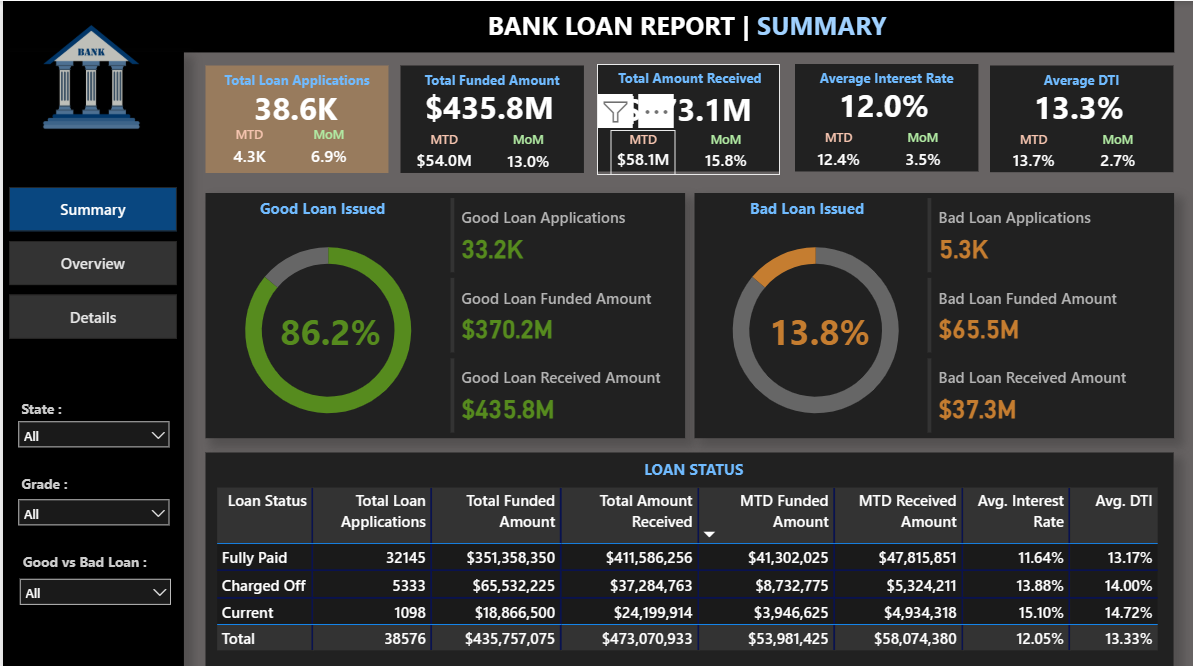

The page's visual inventory and layout, read from the dashboard file:
{"tool":"powerbi","page":{"name":"Summary","canvas":[1280,720],"ordinal":0},"visuals":[{"type":"shape","box":[629.2,66.4,193.8,114.2],"z":0,"group":"g3"},{"type":"shape","box":[839.7,67.5,194.5,114],"z":0,"group":"g4"},{"type":"shape","box":[214.3,68.6,194.3,114.3],"z":0,"group":"g1"},{"type":"shape","box":[421.4,68.6,194.5,114],"z":0,"group":"g2"},{"type":"shape","box":[1047.1,68.6,194.5,113.1],"z":0,"group":"g5"},{"type":"shape","box":[214.3,204.3,508.6,260],"z":0},{"type":"card","fields":{"Values":["table_measures.avg_interest_rate"]},"box":[851.5,82.1,165.9,58.4],"z":1000,"group":"g4"},{"type":"card","fields":{"Values":["table_measures.avg_DTI"]},"box":[1058.9,83.1,165.9,57.9],"z":1000,"group":"g5"},{"type":"card","fields":{"Values":["table_measures.total_loan_appl"]},"box":[247.2,83.2,124.3,61.3],"z":1000,"group":"g1"},{"type":"card","fields":{"Values":["table_measures.total_funded_amt"]},"box":[433.2,83.2,165.9,58.4],"z":1000,"group":"g2"},{"type":"card","fields":{"Values":["table_measures.total_received_amt"]},"box":[643.2,85.3,163.1,55.8],"z":1000,"group":"g3"},{"type":"donutChart","fields":{"Category":["financial_loan.Good vs Band Loan"],"Y":["table_measures.total_loan_appl"]},"box":[220,234.3,250,230],"z":1000},{"type":"shape","box":[0,0,1242.3,54.5],"z":2000},{"type":"textbox","box":[632.2,67,191,41.6],"z":2000,"group":"g3"},{"type":"textbox","box":[839.7,67.5,194.5,38.9],"z":2000,"group":"g4"},{"type":"textbox","box":[214.3,68.6,194.3,39],"z":2000,"group":"g1"},{"type":"textbox","box":[421.4,68.6,194.5,38.9],"z":2000,"group":"g2"},{"type":"textbox","box":[1047.1,68.6,194.5,38.6],"z":2000,"group":"g5"},{"type":"shape","box":[0,54.7,191.9,654.7],"z":3000},{"type":"card","title":"MTD","fields":{"Values":["table_measures.MTD_loan_appl"]},"box":[235.7,132.7,51.4,50.2],"z":3000,"group":"g1"},{"type":"card","title":"MTD","fields":{"Values":["table_measures.MTD_interest_rate"]},"box":[851.5,136.3,70.1,48.6],"z":3000,"group":"g4"},{"type":"card","title":"MTD","fields":{"Values":["table_measures.MTD_avg_DTI"]},"box":[1058.9,136.9,70.1,48.3],"z":3000,"group":"g5"},{"type":"card","title":"MTD","fields":{"Values":["table_measures.MTD_received_amt"]},"box":[643.2,137.1,68.9,46.5],"z":3000,"group":"g3"},{"type":"card","title":"MTD","fields":{"Values":["table_measures.MTD_funded_amt"]},"box":[433.2,137.4,70.1,48.6],"z":3000,"group":"g2"},{"type":"card","title":"MoM","fields":{"Values":["table_measures.MOM_loan_appl"]},"box":[320,132.7,51.4,50.2],"z":4000,"group":"g1"},{"type":"card","title":"MoM","fields":{"Values":["table_measures.MOM_interest_rate"]},"box":[946.6,136.1,57.8,49.7],"z":4000,"group":"g4"},{"type":"card","title":"MoM","fields":{"Values":["table_measures.MOM_avg_DTI"]},"box":[1154,136.7,57.8,49.3],"z":4000,"group":"g5"},{"type":"card","title":"MoM","fields":{"Values":["table_measures.MOM_received_amt"]},"box":[736.7,136.9,56.8,47.5],"z":4000,"group":"g3"},{"type":"card","title":"MoM","fields":{"Values":["table_measures.MOM_funded_amt"]},"box":[528.3,137.2,57.8,49.7],"z":4000,"group":"g2"},{"type":"textbox","box":[13.8,417,119.7,38.5],"z":4000},{"type":"textbox","box":[235.7,204.3,207.1,34.3],"z":5000},{"type":"card","fields":{"Values":["table_measures.good_loan_per"]},"box":[287.1,321.4,118.6,57.1],"z":6000},{"type":"textbox","box":[509.2,1.4,447.3,49.5],"z":7000},{"type":"group","id":"g1","title":"Group 1","box":[214.3,68.6,194.3,114.3],"z":8000},{"type":"group","id":"g2","title":"Group 1","box":[421.4,68.6,194.3,118],"z":9000},{"type":"group","id":"g3","title":"Group 1","box":[629.2,66.4,194,118],"z":10000},{"type":"group","id":"g4","title":"Group 1","box":[839.7,67.5,194.5,118.2],"z":11000},{"type":"group","id":"g5","title":"Group 1","box":[1047.1,68.6,194.3,117.1],"z":12000},{"type":"shape","box":[732.9,204.3,508.6,260],"z":13000},{"type":"cardVisual","fields":{"Data":["table_measures.good_loan_appl","table_measures.good_loan_funded_amt","table_measures.good_loan_received_amt"]},"box":[470,204.3,252.9,260],"z":14000},{"type":"donutChart","fields":{"Category":["financial_loan.Good vs Band Loan"],"Y":["table_measures.total_loan_appl"]},"box":[737.1,234.3,250,230],"z":15000},{"type":"card","fields":{"Values":["table_measures.bad_loan_per"]},"box":[805.7,321.4,118.6,57.1],"z":16000},{"type":"textbox","box":[748.6,204.3,207.1,34.3],"z":17000},{"type":"cardVisual","fields":{"Data":["table_measures.bad_loan_appl","table_measures.bad_loan_funded_amt","table_measures.bad_loan_received_amt"]},"box":[975.7,204.3,252.9,260],"z":18000},{"type":"shape","box":[214,479.1,1026.7,230.2],"z":19000},{"type":"tableEx","fields":{"Values":["financial_loan.loan_status","table_measures.total_loan_appl","table_measures.total_funded_amt","table_measures.total_received_amt","table_measures.MTD_funded_amt","table_measures.MTD_received_amt","table_measures.avg_interest_rate","table_measures.avg_DTI"]},"box":[220.4,509.8,1008.5,200.4],"z":20000},{"type":"textbox","box":[646.8,479.8,170.3,34.5],"z":21000},{"type":"slicer","fields":{"Values":["financial_loan.address_state"]},"box":[6.9,436.3,180.3,50.9],"z":22000},{"type":"slicer","fields":{"Values":["financial_loan.grade"]},"box":[6.9,518.9,180.3,50.9],"z":23000},{"type":"textbox","box":[13.8,495.5,119.7,38.5],"z":24000},{"type":"pageNavigator","box":[6.9,196.8,178.9,163.8],"z":25000},{"type":"image","box":[0,1.4,187.2,156.9],"z":26000},{"type":"slicer","fields":{"Values":["financial_loan.Good vs Band Loan"]},"box":[8.3,602.8,180.3,50.9],"z":27000},{"type":"textbox","box":[15.1,579.4,163.8,38.5],"z":28000}]}

Visuals, with their boxes in screenshot pixels (x1, y1, x2, y2), scaled from the page's 1280x720 canvas onto the 1193x666 screenshot:
shape: rect(586, 61, 767, 167)
shape: rect(783, 62, 964, 168)
shape: rect(200, 63, 381, 169)
shape: rect(393, 63, 574, 169)
shape: rect(976, 63, 1157, 168)
shape: rect(200, 189, 674, 429)
card - table_measures.avg_interest_rate: rect(794, 76, 948, 130)
card - table_measures.avg_DTI: rect(987, 77, 1142, 130)
card - table_measures.total_loan_appl: rect(230, 77, 346, 134)
card - table_measures.total_funded_amt: rect(404, 77, 558, 131)
card - table_measures.total_received_amt: rect(599, 79, 751, 131)
donutChart - financial_loan.Good vs Band Loan x table_measures.total_loan_appl: rect(205, 217, 438, 429)
shape: rect(0, 0, 1158, 50)
textbox: rect(589, 62, 767, 100)
textbox: rect(783, 62, 964, 98)
textbox: rect(200, 63, 381, 100)
textbox: rect(393, 63, 574, 99)
textbox: rect(976, 63, 1157, 99)
shape: rect(0, 51, 179, 656)
"MTD" card: rect(220, 123, 268, 169)
"MTD" card: rect(794, 126, 859, 171)
"MTD" card: rect(987, 127, 1052, 171)
"MTD" card: rect(599, 127, 664, 170)
"MTD" card: rect(404, 127, 469, 172)
"MoM" card: rect(298, 123, 346, 169)
"MoM" card: rect(882, 126, 936, 172)
"MoM" card: rect(1076, 126, 1129, 172)
"MoM" card: rect(687, 127, 740, 171)
"MoM" card: rect(492, 127, 546, 173)
textbox: rect(13, 386, 124, 421)
textbox: rect(220, 189, 413, 221)
card - table_measures.good_loan_per: rect(268, 297, 378, 350)
textbox: rect(475, 1, 891, 47)
"Group 1" group: rect(200, 63, 381, 169)
"Group 1" group: rect(393, 63, 574, 173)
"Group 1" group: rect(586, 61, 767, 171)
"Group 1" group: rect(783, 62, 964, 172)
"Group 1" group: rect(976, 63, 1157, 172)
shape: rect(683, 189, 1157, 429)
cardVisual - table_measures.good_loan_appl x table_measures.good_loan_funded_amt: rect(438, 189, 674, 429)
donutChart - financial_loan.Good vs Band Loan x table_measures.total_loan_appl: rect(687, 217, 920, 429)
card - table_measures.bad_loan_per: rect(751, 297, 861, 350)
textbox: rect(698, 189, 891, 221)
cardVisual - table_measures.bad_loan_appl x table_measures.bad_loan_funded_amt: rect(909, 189, 1145, 429)
shape: rect(199, 443, 1156, 656)
tableEx - financial_loan.loan_status x table_measures.total_loan_appl: rect(205, 472, 1145, 657)
textbox: rect(603, 444, 762, 476)
slicer - financial_loan.address_state: rect(6, 404, 174, 451)
slicer - financial_loan.grade: rect(6, 480, 174, 527)
textbox: rect(13, 458, 124, 494)
pageNavigator: rect(6, 182, 173, 334)
image: rect(0, 1, 174, 146)
slicer - financial_loan.Good vs Band Loan: rect(8, 558, 176, 605)
textbox: rect(14, 536, 167, 572)
